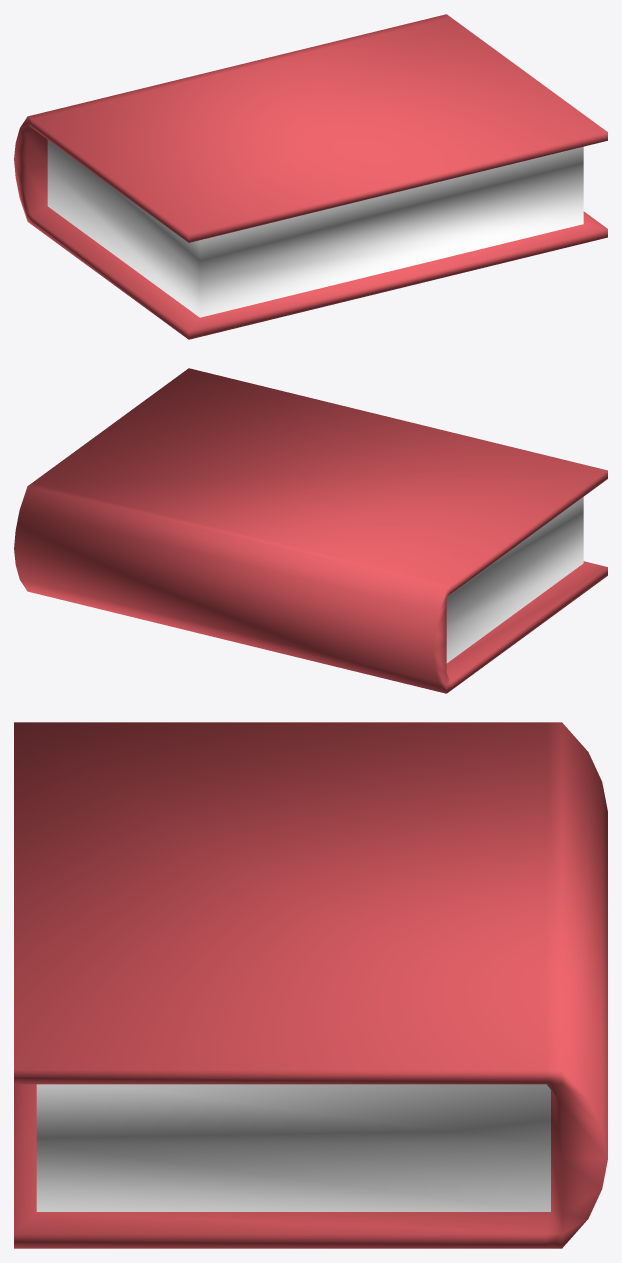
File: Book.fbx
The picture shows the model from 3 angles, top to bottom: view 1: azimuth 30°, elevation 25°; view 2: azimuth 150°, elevation 25°; view 3: azimuth 270°, elevation 25°; orthographic projection. The views are drawn at different scales.
Visible parts, largest first — view 1: Cube; view 2: Cube; view 3: Cube.
Boxes of the visible parts, x1,y1,x2,y2 form: Cube: [14, 14, 607, 339]; Cube: [14, 368, 607, 693]; Cube: [14, 722, 607, 1248].
Bounding box in the file's own units: 424 × 102 × 307.
